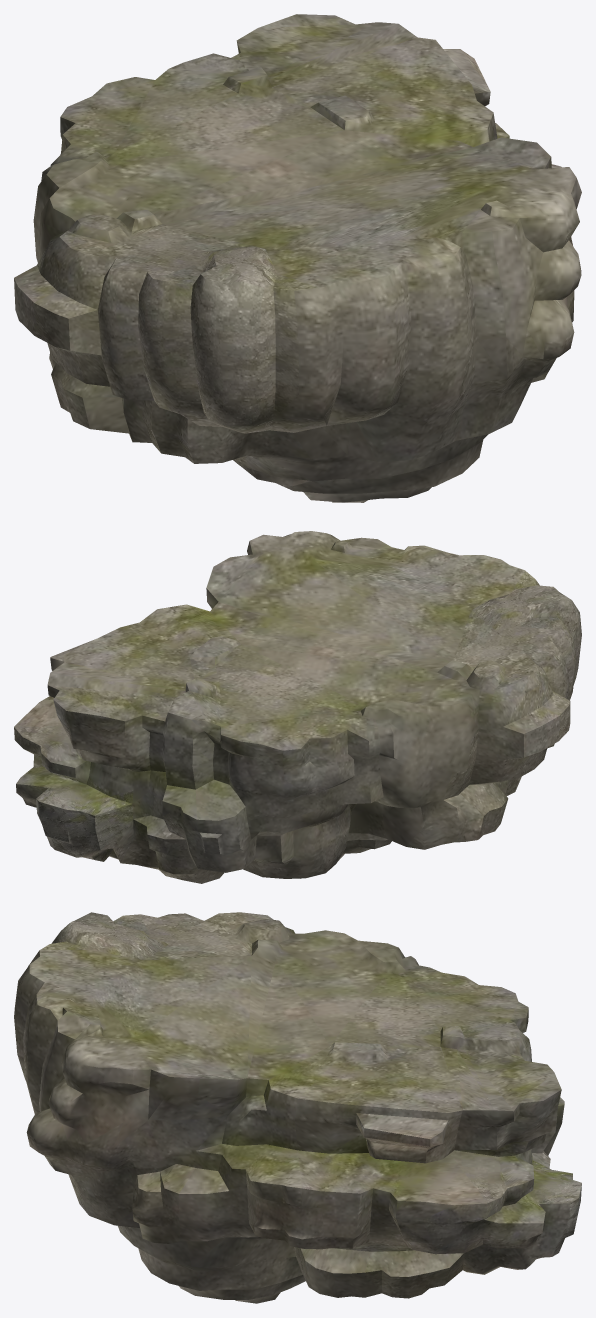
File: boulders__variant__v3.glb
The picture shows the model from 3 angles, top to bottom: view 1: azimuth 30°, elevation 25°; view 2: azimuth 150°, elevation 25°; view 3: azimuth 270°, elevation 25°; orthographic projection. The views are drawn at different scales.
Parts seen in each view (by area): view 1: tripo_node_7daaacd5-7baf-4b73-96cb-23c38f039ba2; view 2: tripo_node_7daaacd5-7baf-4b73-96cb-23c38f039ba2; view 3: tripo_node_7daaacd5-7baf-4b73-96cb-23c38f039ba2.
Part boxes in pixels (x1,y1,x2,y2): tripo_node_7daaacd5-7baf-4b73-96cb-23c38f039ba2: [14, 14, 581, 502]; tripo_node_7daaacd5-7baf-4b73-96cb-23c38f039ba2: [14, 531, 581, 883]; tripo_node_7daaacd5-7baf-4b73-96cb-23c38f039ba2: [14, 912, 581, 1303].
Size of the model in its own units: 0.9707 by 0.5594 by 1.
1 material, 1 textured.
